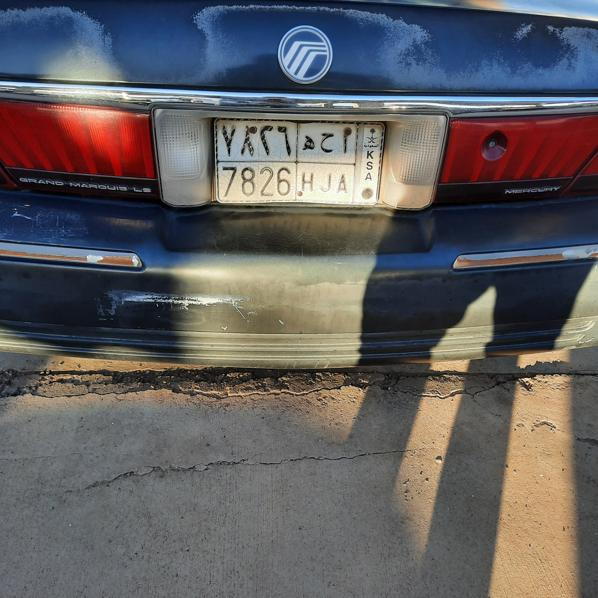numberplate: (211, 118, 380, 209)
